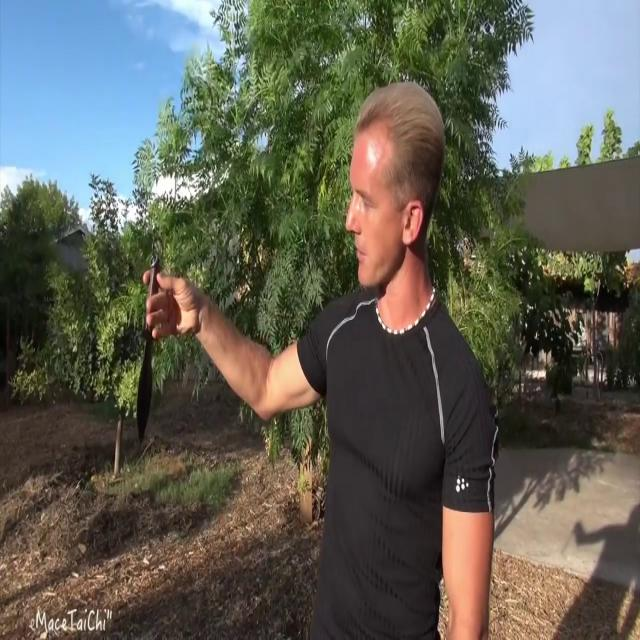knife: (119, 239, 180, 439)
